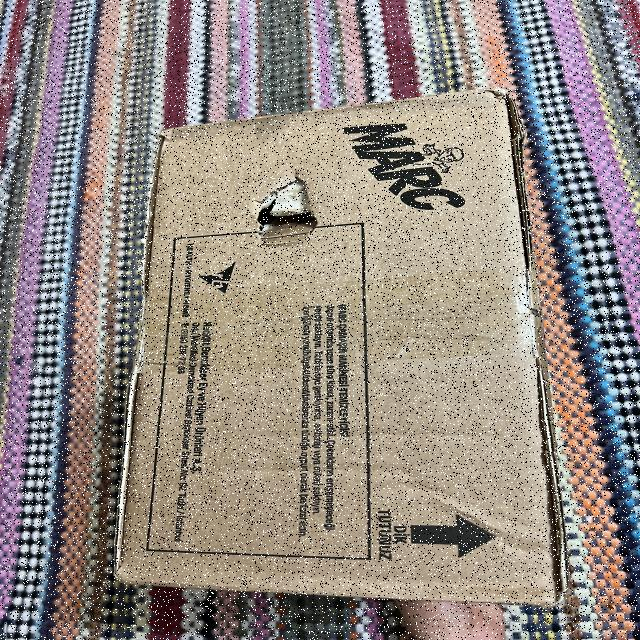damaged: (100, 73, 576, 609), (248, 159, 336, 266)
